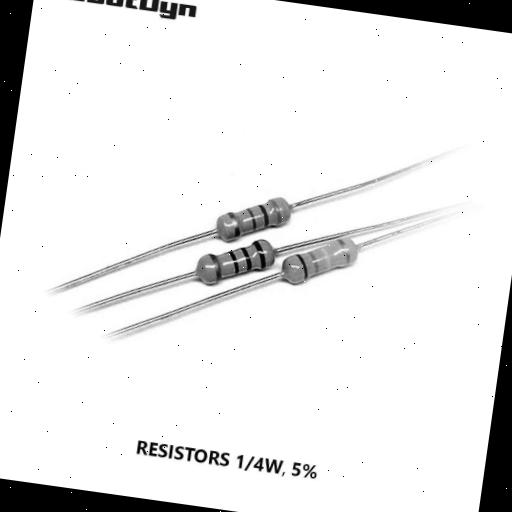RESISTOR: (259, 215, 392, 321), (183, 220, 284, 314), (193, 181, 309, 253)
